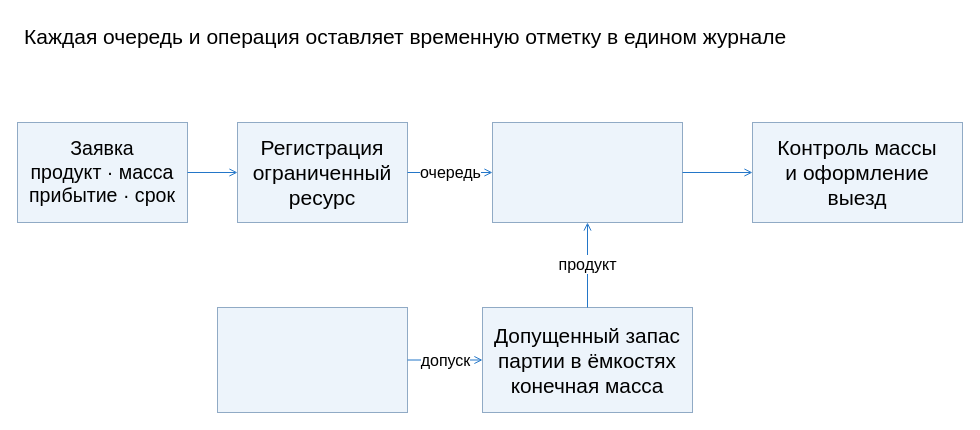
Some shapes in this 980 by 430 pixel diagram are drawn without their labels. The shapes that lost their labels are listed below. From the top down, each one's centre as x and y in pixels, then its label:
At (x=587, y=172): "Посты налива совместимость резервирование".
At (x=312, y=359): "Лаборатория один выпуск на партию".
